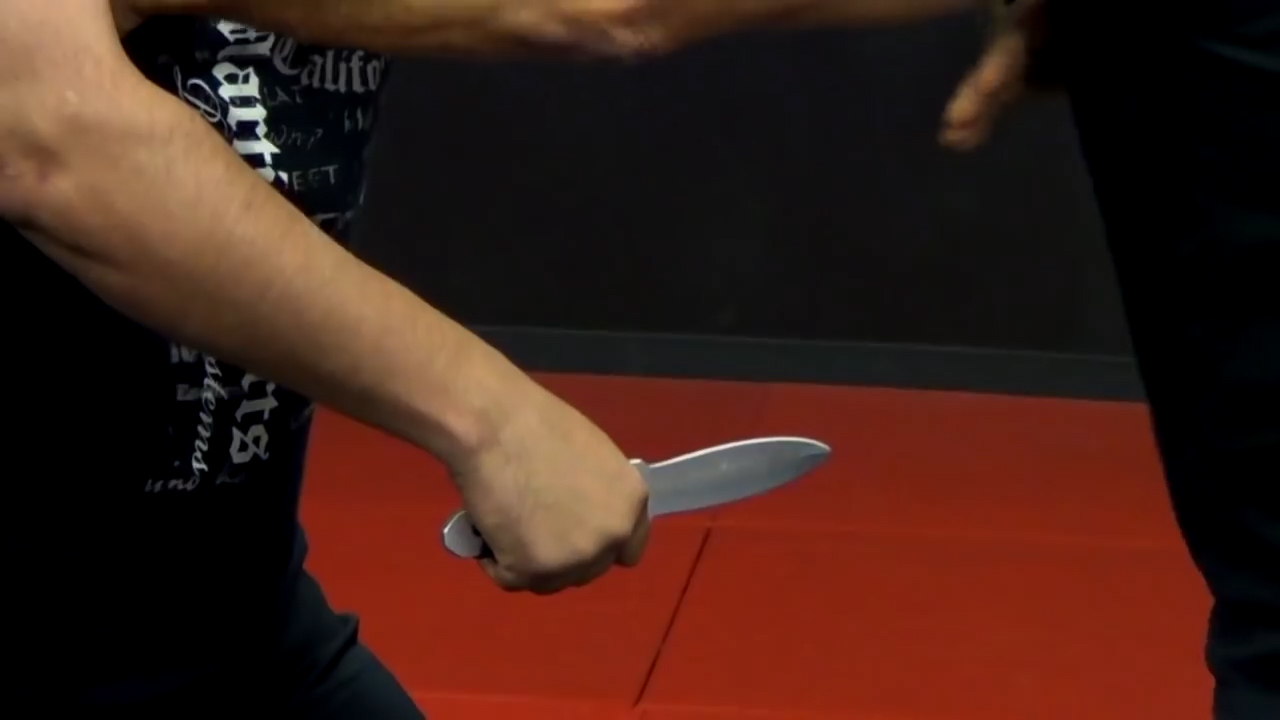knife: (430, 419, 844, 598)
